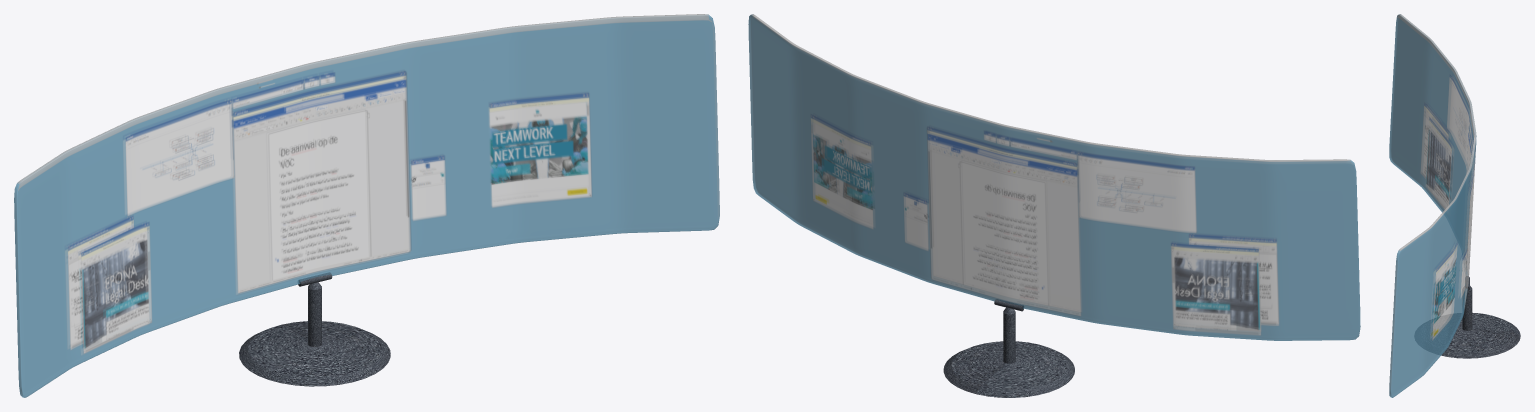
Rendered from futureScreen4.glb.
3 views of the same model, side by side, from view 1: azimuth 30°, elevation 25°; view 2: azimuth 150°, elevation 25°; view 3: azimuth 270°, elevation 25° (orthographic). The views are drawn at different scales.
Parts seen in each view (by area): view 1: screen.003, foot.003; view 2: screen.003, foot.003; view 3: screen.003, foot.003.
Part boxes in pixels (<box>): screen.003: <box>14,14,719,397</box>; foot.003: <box>239,272,390,386</box>; screen.003: <box>748,14,1360,340</box>; foot.003: <box>943,299,1074,397</box>; screen.003: <box>1389,14,1476,397</box>; foot.003: <box>1415,276,1520,358</box>.
Size of the model in its own units: 2.12 by 0.8422 by 0.492.
Materials: 2 (2 with a texture image).
